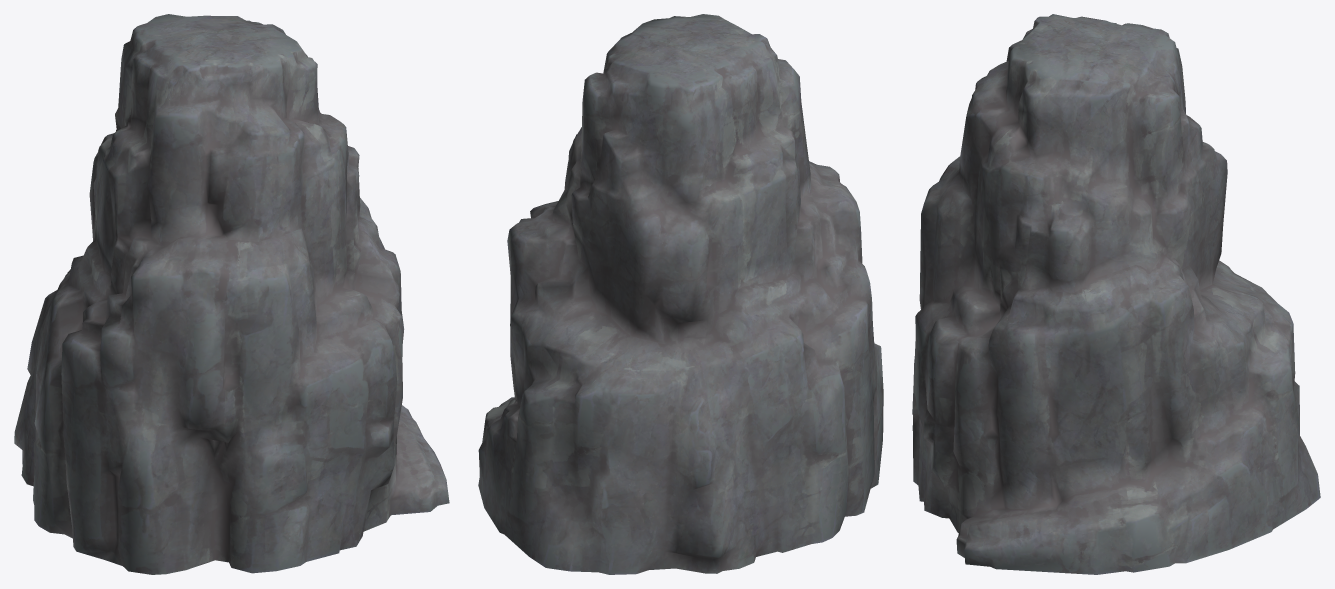
Rendered from stone-2.fbx.
3 views of the same model, side by side, from view 1: azimuth 30°, elevation 25°; view 2: azimuth 150°, elevation 25°; view 3: azimuth 270°, elevation 25° (orthographic). The views are drawn at different scales.
Parts seen in each view (by area): view 1: Area_Ly_Stone_CSPY_Ground_L_01_Lod0; view 2: Area_Ly_Stone_CSPY_Ground_L_01_Lod0; view 3: Area_Ly_Stone_CSPY_Ground_L_01_Lod0.
Boxes of the visible parts, x1=… form: Area_Ly_Stone_CSPY_Ground_L_01_Lod0: x1=14, y1=14, x2=449, y2=574; Area_Ly_Stone_CSPY_Ground_L_01_Lod0: x1=478, y1=14, x2=883, y2=574; Area_Ly_Stone_CSPY_Ground_L_01_Lod0: x1=912, y1=14, x2=1320, y2=574.
Bounding box in the file's own units: 5653 × 6910 × 5737.
1 material, 1 textured.
